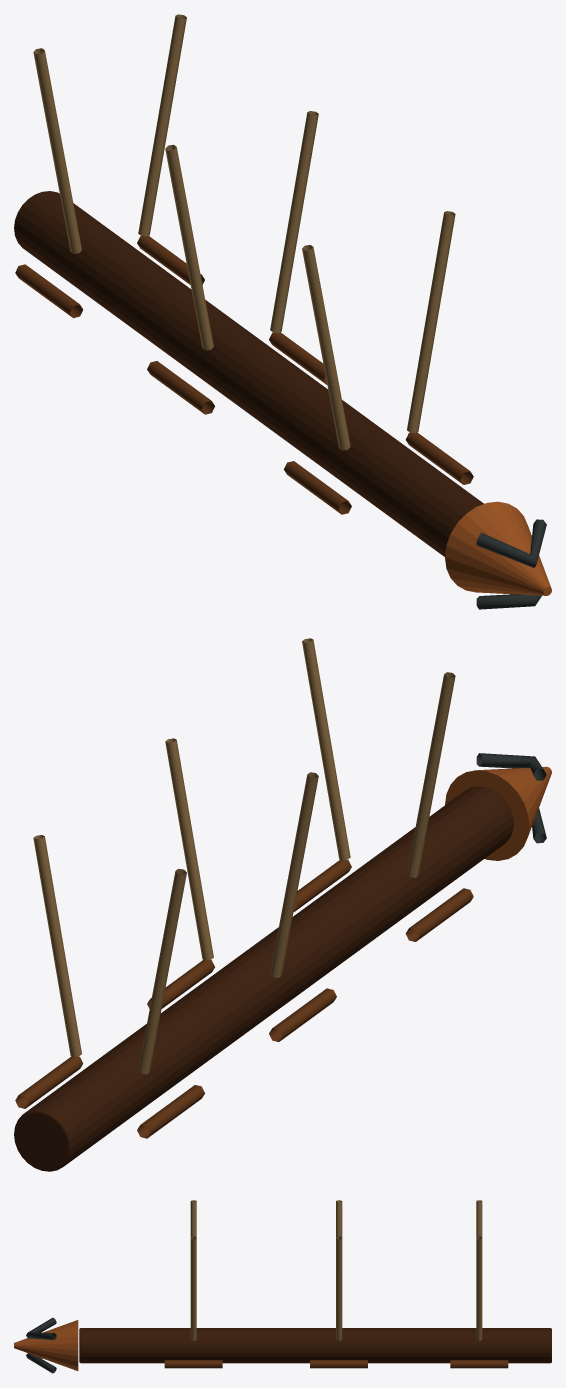
Rendered from battering_ram_ram_beam.glb.
The picture shows the model from 3 angles, top to bottom: view 1: azimuth 30°, elevation 25°; view 2: azimuth 150°, elevation 25°; view 3: azimuth 270°, elevation 25°; orthographic projection. The views are drawn at different scales.
Visible parts, largest first — view 1: RamMainBeam, RamBronzeHead, RamSuspensionRopeRight, RamSuspensionRopeRight.002, RamSuspensionRopeRight.001, RamSuspensionRopeLeft.001, RamSuspensionRopeLeft.002, RamSuspensionRopeLeft, RamHornFlange.001, RamCrewGrip, RamCrewGrip.002, RamCrewGrip.004 (+4 smaller); view 2: RamMainBeam, RamBronzeHead, RamSuspensionRopeRight, RamSuspensionRopeRight.001, RamSuspensionRopeRight.002, RamSuspensionRopeLeft, RamSuspensionRopeLeft.001, RamSuspensionRopeLeft.002, RamCrewGrip, RamCrewGrip.002, RamCrewGrip.004, RamCrewGrip.005 (+3 smaller); view 3: RamMainBeam, RamBronzeHead, RamSuspensionRopeRight, RamSuspensionRopeRight.002, RamSuspensionRopeRight.001, RamCrewGrip.001, RamCrewGrip.005, RamCrewGrip.003, RamHornFlange.001, RamSuspensionRopeLeft.001, RamSuspensionRopeLeft, RamSuspensionRopeLeft.002 (+1 smaller).
Part boxes in pixels (box(x1,y1,x2,y2)): RamMainBeam: box(14, 191, 483, 556); RamBronzeHead: box(445, 501, 551, 595); RamSuspensionRopeRight: box(407, 211, 455, 433); RamSuspensionRopeRight.002: box(138, 14, 186, 236); RamSuspensionRopeRight.001: box(270, 111, 318, 332); RamSuspensionRopeLeft.001: box(165, 144, 213, 350); RamSuspensionRopeLeft.002: box(33, 48, 81, 253); RamSuspensionRopeLeft: box(302, 245, 350, 450); RamHornFlange.001: box(476, 519, 546, 567); RamCrewGrip: box(284, 461, 351, 514); RamCrewGrip.002: box(147, 361, 214, 414); RamCrewGrip.004: box(15, 264, 83, 318); RamMainBeam: box(14, 786, 513, 1171); RamBronzeHead: box(445, 766, 551, 860); RamSuspensionRopeRight: box(302, 638, 350, 860); RamSuspensionRopeRight.001: box(165, 738, 213, 960); RamSuspensionRopeRight.002: box(33, 835, 81, 1056); RamSuspensionRopeLeft: box(407, 672, 455, 877); RamSuspensionRopeLeft.001: box(270, 772, 318, 977); RamSuspensionRopeLeft.002: box(138, 868, 186, 1074); RamCrewGrip: box(405, 888, 473, 941); RamCrewGrip.002: box(269, 988, 336, 1041); RamCrewGrip.004: box(137, 1085, 204, 1138); RamCrewGrip.005: box(15, 1056, 83, 1108); RamMainBeam: box(79, 1328, 551, 1363); RamBronzeHead: box(14, 1320, 78, 1370); RamSuspensionRopeRight: box(190, 1236, 196, 1340); RamSuspensionRopeRight.002: box(476, 1236, 482, 1340); RamSuspensionRopeRight.001: box(336, 1236, 342, 1340); RamCrewGrip.001: box(164, 1360, 222, 1368); RamCrewGrip.005: box(450, 1360, 508, 1368); RamCrewGrip.003: box(310, 1360, 367, 1368); RamHornFlange.001: box(26, 1317, 56, 1339); RamSuspensionRopeLeft.001: box(336, 1200, 342, 1237); RamSuspensionRopeLeft: box(190, 1200, 196, 1237); RamSuspensionRopeLeft.002: box(476, 1200, 482, 1237).
Size of the model in its own units: 0.8911 by 1.59 by 5.18.
